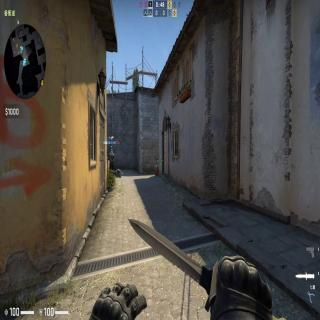CT-Head: (110, 148, 113, 153)
